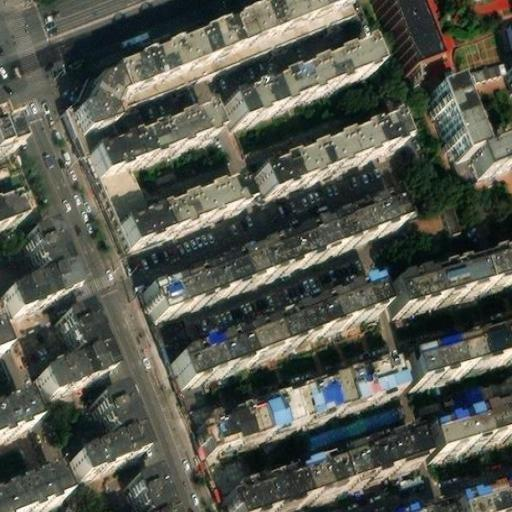building: (76, 0, 336, 127), (200, 351, 400, 449), (226, 41, 381, 128), (259, 117, 404, 194), (147, 241, 282, 315), (271, 194, 404, 267), (92, 109, 214, 179), (122, 181, 247, 246), (160, 323, 272, 389), (262, 285, 372, 350), (428, 78, 505, 170), (74, 392, 150, 484), (39, 302, 112, 395), (4, 219, 77, 310), (399, 250, 512, 307), (324, 430, 424, 490), (225, 460, 336, 512), (409, 333, 512, 386), (301, 405, 401, 455), (428, 398, 512, 451), (392, 0, 446, 61), (0, 463, 63, 512), (123, 470, 171, 512), (454, 489, 512, 512), (0, 390, 35, 428), (463, 60, 506, 88)
